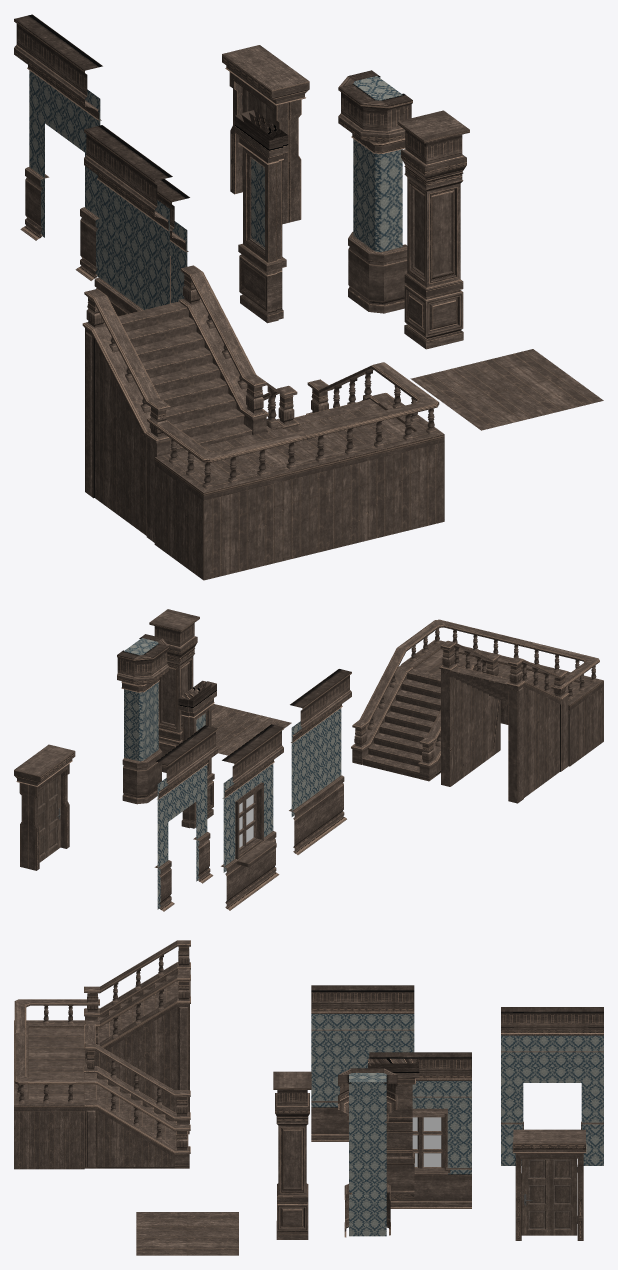
File: TestExport.fbx
3 renders of one model, top to bottom at view 1: azimuth 30°, elevation 25°; view 2: azimuth 150°, elevation 25°; view 3: azimuth 270°, elevation 25°, orthographic. The views are drawn at different scales.
Parts seen in each view (by area): view 1: Plane.047, Cube.007, Cube.008, Plane.043, Plane.045, Plane.031, Plane.040, Cube.009, Cube.011, Plane.032; view 2: Plane.047, Cube.011, Plane.043, Cube.008, Plane.045, Cube.007, Cube.009, Plane.031, Cube.010, Plane.040, Plane.032; view 3: Plane.047, Plane.045, Plane.043, Cube.011, Cube.008, Cube.007, Plane.031, Cube.010, Plane.032, Cube.009.
Part boxes in pixels (<box>): Plane.047: <box>82,265,444,580</box>; Cube.007: <box>397,110,469,349</box>; Cube.008: <box>338,70,412,313</box>; Plane.043: <box>84,125,172,316</box>; Plane.045: <box>14,14,102,280</box>; Plane.031: <box>410,349,603,430</box>; Plane.040: <box>235,112,282,323</box>; Cube.009: <box>222,45,309,224</box>; Cube.011: <box>154,179,189,303</box>; Plane.032: <box>240,110,288,319</box>; Plane.047: <box>351,619,603,803</box>; Cube.011: <box>221,724,283,910</box>; Plane.043: <box>289,669,351,854</box>; Cube.008: <box>117,634,168,804</box>; Plane.045: <box>154,725,217,911</box>; Cube.007: <box>149,609,199,772</box>; Cube.009: <box>14,744,75,870</box>; Plane.031: <box>211,704,291,755</box>; Cube.010: <box>37,774,60,862</box>; Plane.040: <box>183,681,216,828</box>; Plane.032: <box>178,680,211,828</box>; Plane.047: <box>14,940,190,1169</box>; Plane.045: <box>501,1007,603,1165</box>; Plane.043: <box>311,985,414,1141</box>; Cube.011: <box>369,1052,471,1208</box>; Cube.008: <box>338,1068,397,1237</box>; Cube.007: <box>273,1071,311,1239</box>; Plane.031: <box>136,1212,238,1255</box>; Cube.010: <box>521,1158,577,1235</box>; Plane.032: <box>369,1060,419,1199</box>; Cube.009: <box>512,1129,586,1240</box>.
Bounding box in the file's own units: 790 × 431 × 1147.
Materials: 5 (4 with a texture image).
